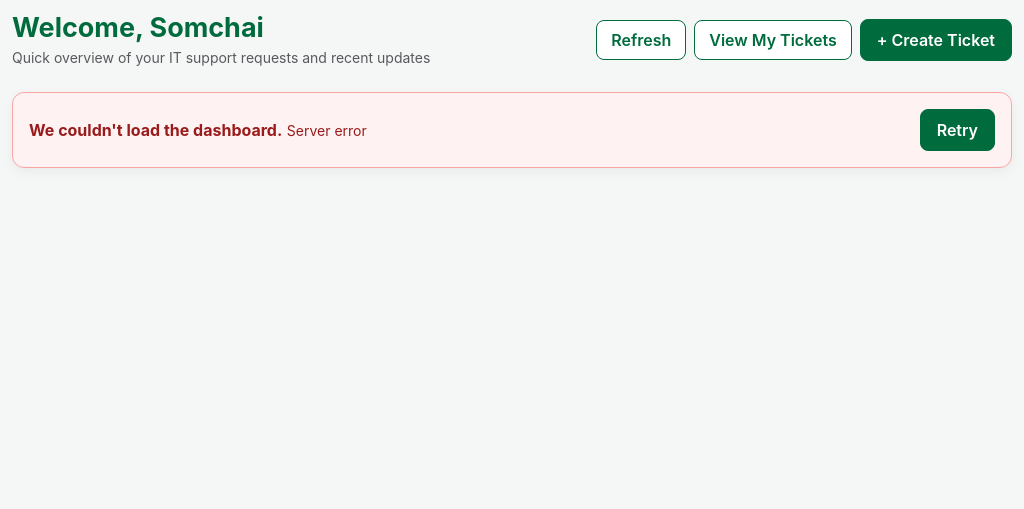
Test: RequesterDashboard Component UI Tests (RDASH-UI-01 to RDASH-UI-02) › RDASH-UI-02: Loading, empty, forbidden, and failure + Retry states › renders inline alert 'We couldn't load the dashboard.' with Retry button on failure
Check: the text "We couldn't load the dashboard." is shown, box [29,120,282,140]
Click the button "Retry" at (957, 130), box [920,109,995,151]
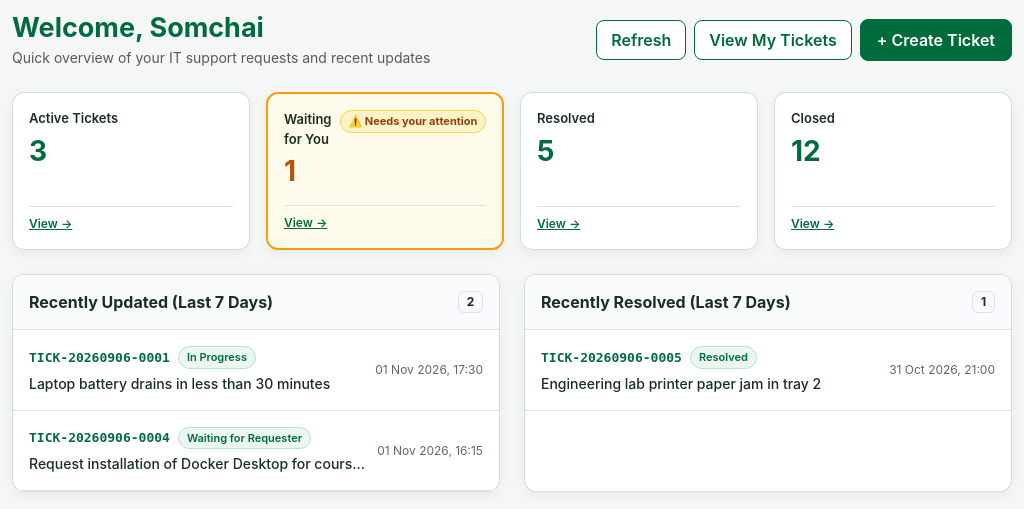
Check: the text "TICK-20260906-0001" is shown, box [29,348,170,367]
